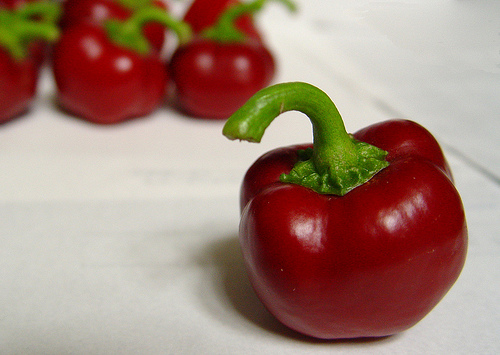capsicum: (220, 80, 467, 340), (49, 0, 192, 128), (170, 0, 303, 124), (0, 15, 59, 126)
